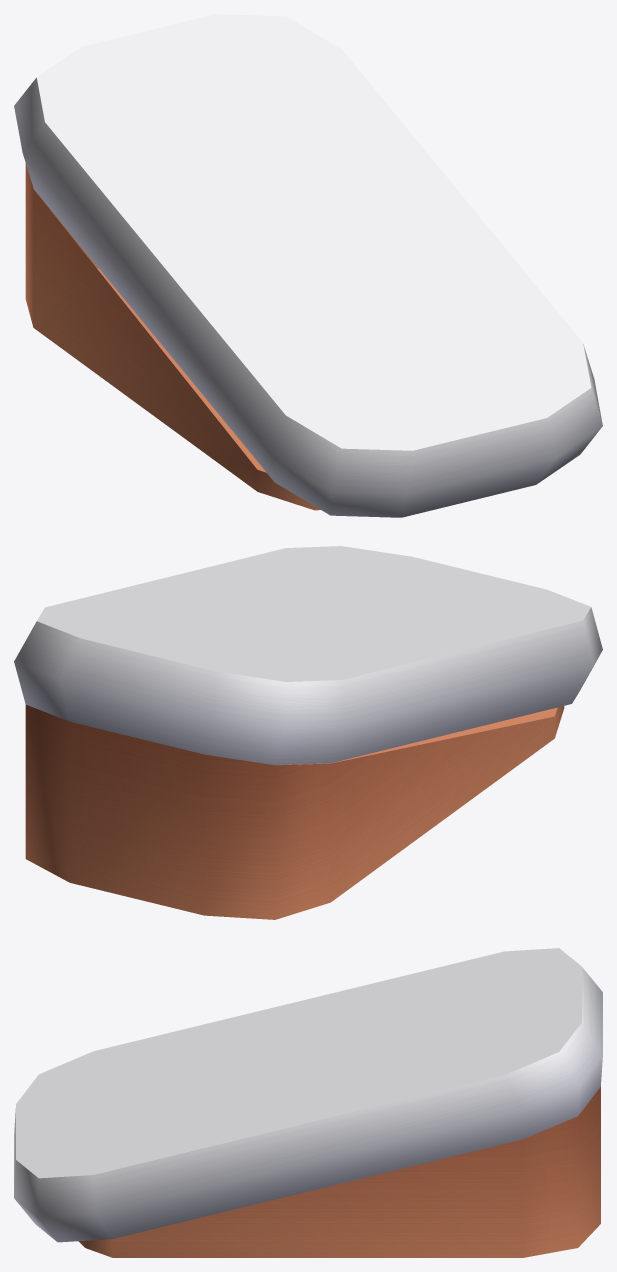
The model's file is block-snow-large-slope-narrow.glb.
3 renders of one model, top to bottom at view 1: azimuth 30°, elevation 25°; view 2: azimuth 150°, elevation 25°; view 3: azimuth 270°, elevation 25°, orthographic. The views are drawn at different scales.
Visible parts, largest first — view 1: block-snow-large-slope-narrow; view 2: block-snow-large-slope-narrow; view 3: block-snow-large-slope-narrow.
Part boxes in pixels (x1,y1,x2,y2): block-snow-large-slope-narrow: (14, 14, 602, 517); block-snow-large-slope-narrow: (14, 546, 602, 919); block-snow-large-slope-narrow: (14, 948, 602, 1257).
Size of the model in its own units: 1.08 by 0.7591 by 2.01.
Materials: 1 (1 with a texture image).
